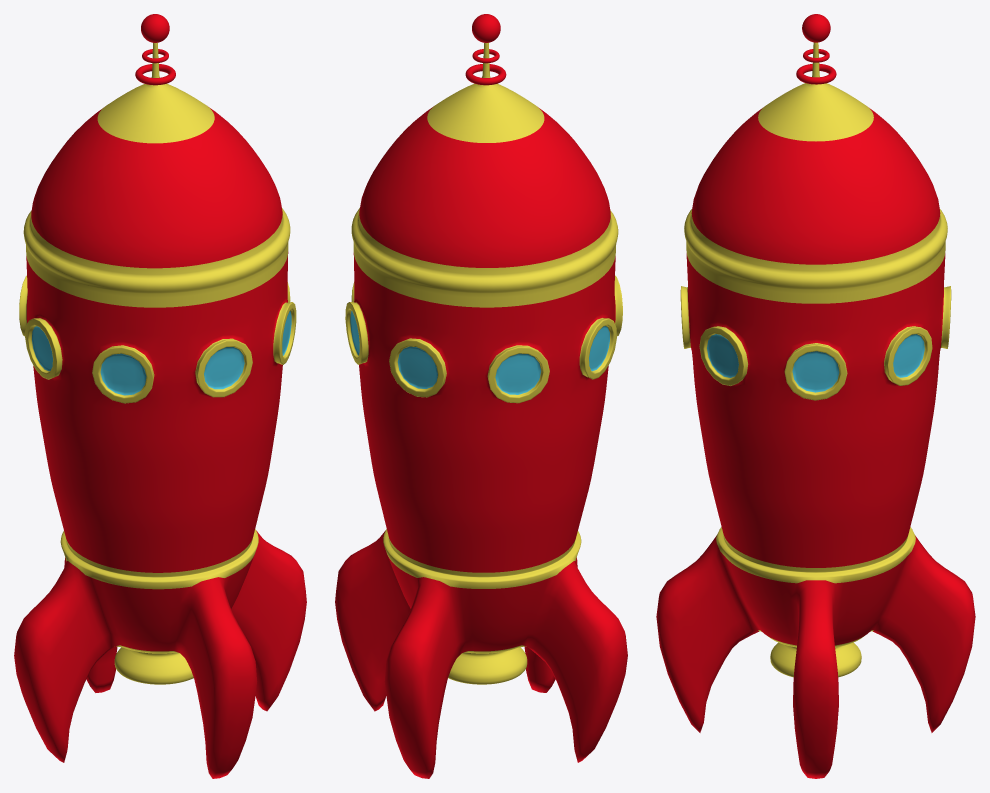
The model's file is retro toy rocket.fbx.
3 views of the same model, side by side, from view 1: azimuth 30°, elevation 25°; view 2: azimuth 150°, elevation 25°; view 3: azimuth 270°, elevation 25° (orthographic).
Visible parts, largest first — view 1: R1; view 2: R1; view 3: R1.
Boxes of the visible parts, box(x1,y1,x2,y2) form: R1: box(14, 14, 306, 778); R1: box(335, 14, 627, 778); R1: box(656, 14, 975, 778).
Size of the model in its own units: 244 by 602 by 244.
